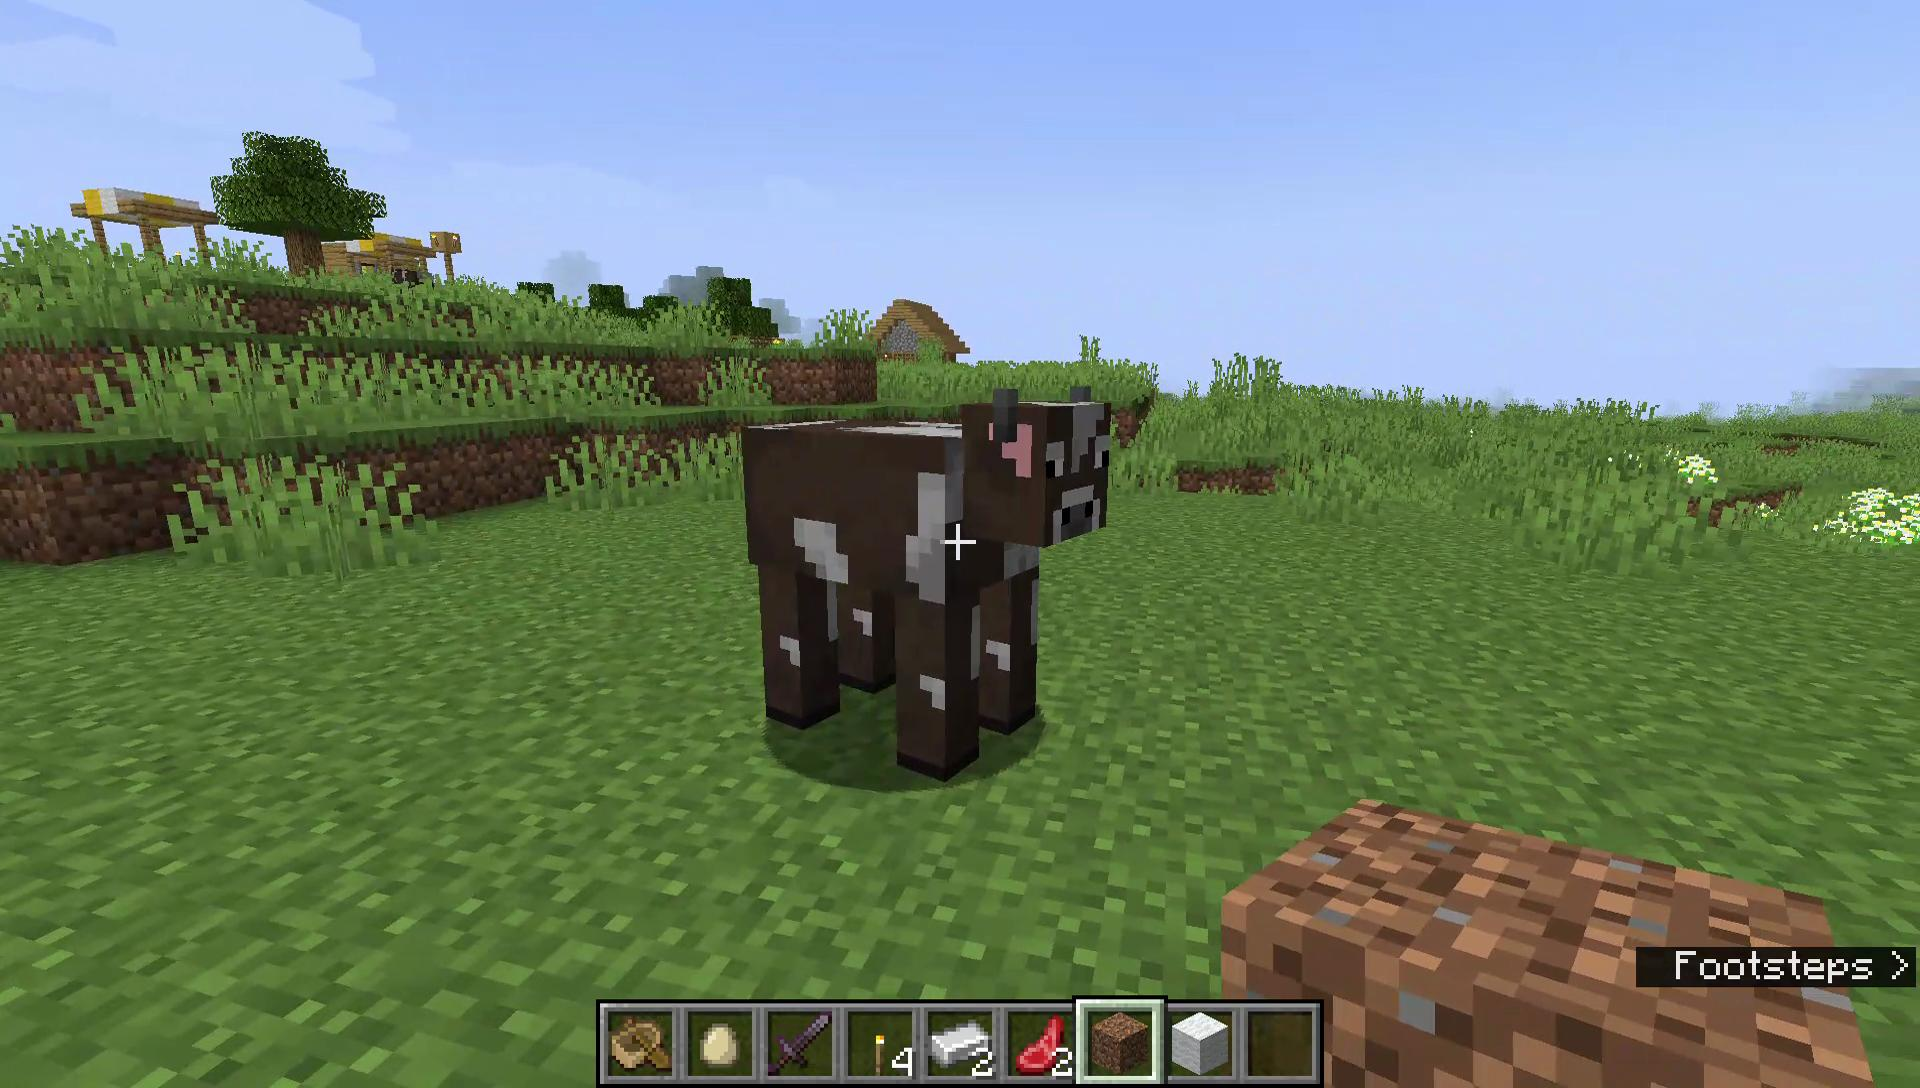cow: (733, 378, 1118, 789), (389, 264, 438, 302)
